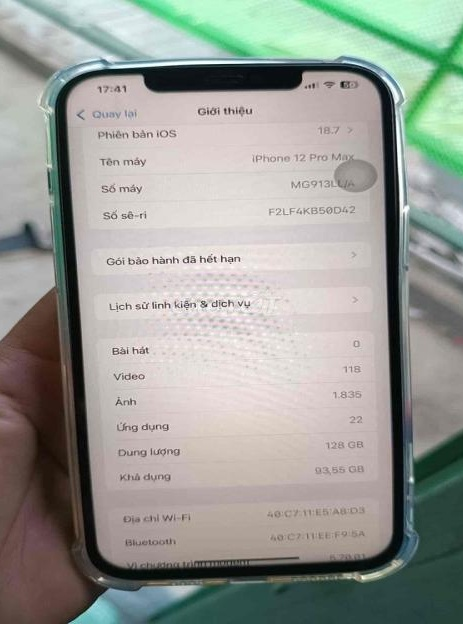screen_defect: (140, 245, 315, 381)
